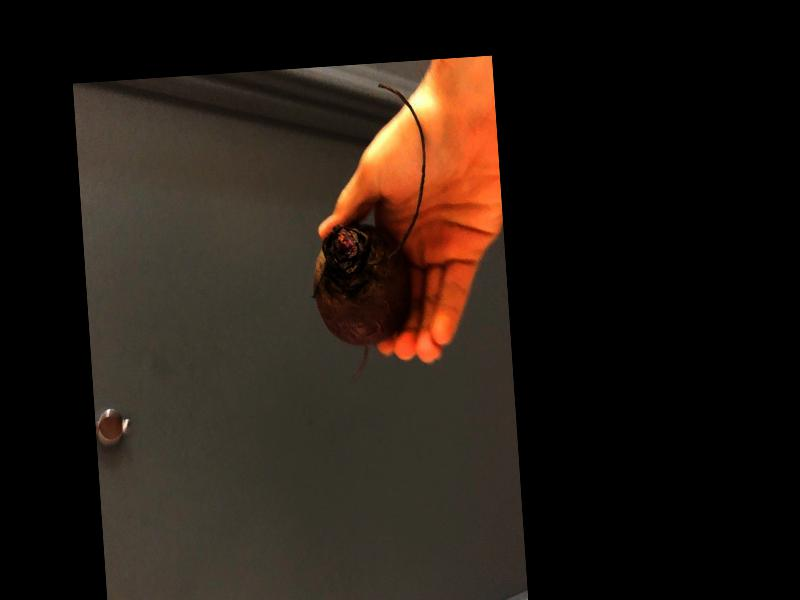Beet: (301, 82, 440, 379)
